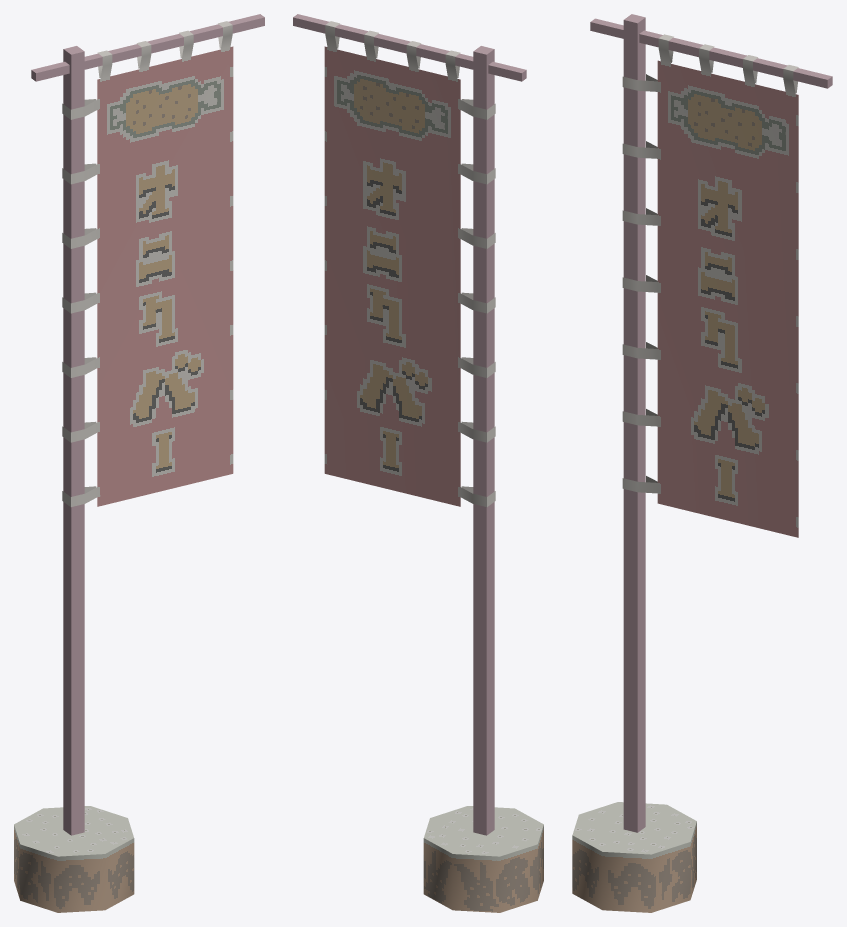
File: 02ab_Butcher_Sign.glb
The picture shows the model from 3 angles, left to right: view 1: azimuth 30°, elevation 25°; view 2: azimuth 150°, elevation 25°; view 3: azimuth 330°, elevation 25°; orthographic projection. The views are drawn at different scales.
Parts seen in each view (by area): view 1: part_0; view 2: part_0; view 3: part_0.
Part boxes in pixels (<box>): part_0: <box>14,14,264,912</box>; part_0: <box>293,14,543,912</box>; part_0: <box>572,14,832,912</box>.
Bounding box in the file's own units: 0.9 × 2.97 × 0.4.
Materials: 1 (1 with a texture image).
